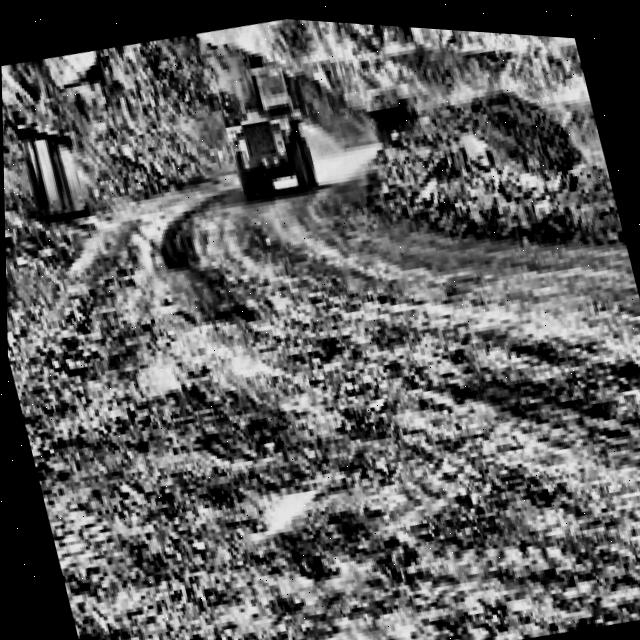dump_truck: (208, 44, 326, 203)
